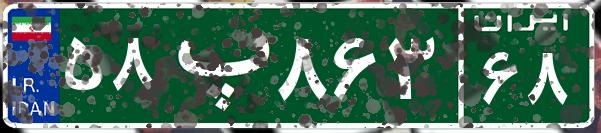3: (385, 28, 445, 110)
5: (57, 26, 110, 107)
6: (330, 28, 385, 110), (475, 38, 525, 113)
8: (273, 28, 330, 110), (110, 28, 158, 105), (525, 38, 570, 115)
پ: (158, 15, 273, 115)
